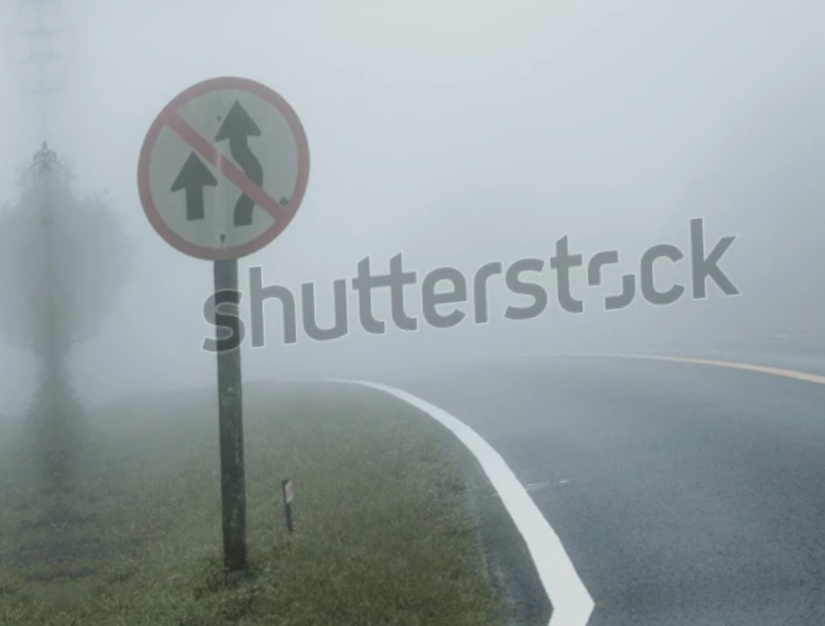No overtake from right: (106, 65, 309, 271)
